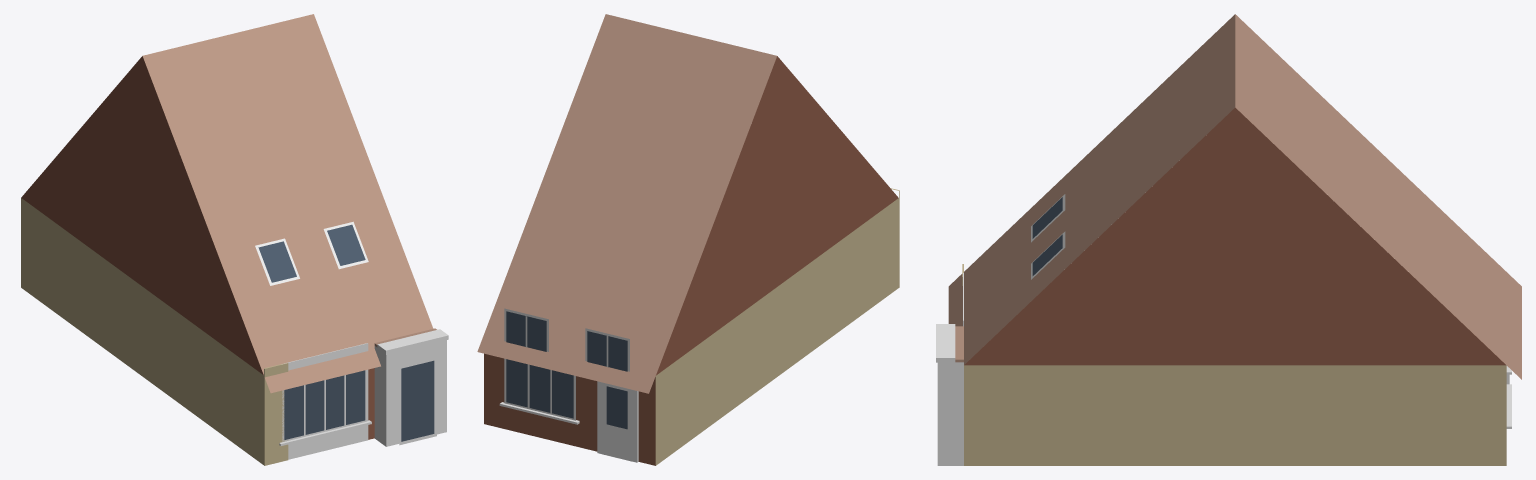
File: zo-g4-roof-house__orange__2__gable__long__solid__mirror.glb
3 views of the same model, side by side, from view 1: azimuth 30°, elevation 25°; view 2: azimuth 150°, elevation 25°; view 3: azimuth 270°, elevation 25° (orthographic). The views are drawn at different scales.
Visible parts, largest first — view 1: zo-g4-roof-house__orange__2__gable__long__solid__mirror; view 2: zo-g4-roof-house__orange__2__gable__long__solid__mirror; view 3: zo-g4-roof-house__orange__2__gable__long__solid__mirror.
Part boxes in pixels (x1,y1,x2,y2): zo-g4-roof-house__orange__2__gable__long__solid__mirror: [21, 14, 448, 465]; zo-g4-roof-house__orange__2__gable__long__solid__mirror: [477, 14, 899, 465]; zo-g4-roof-house__orange__2__gable__long__solid__mirror: [936, 14, 1521, 465].
Bounding box in the file's own units: 5.11 × 9.09 × 13.51.
